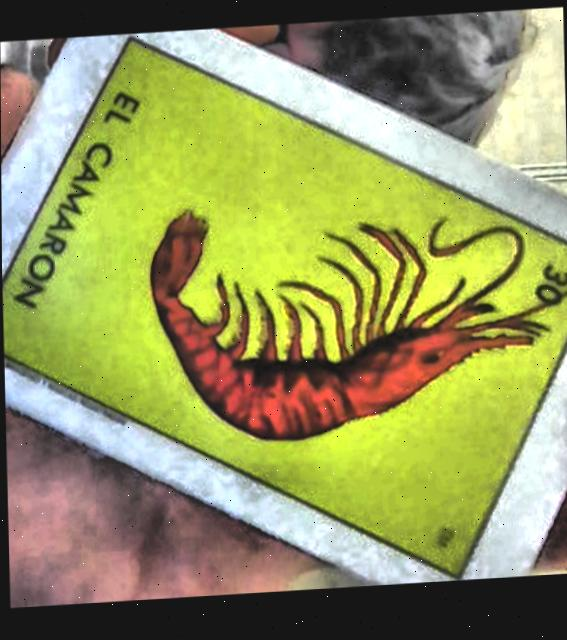El Camaron: (2, 43, 567, 584)
